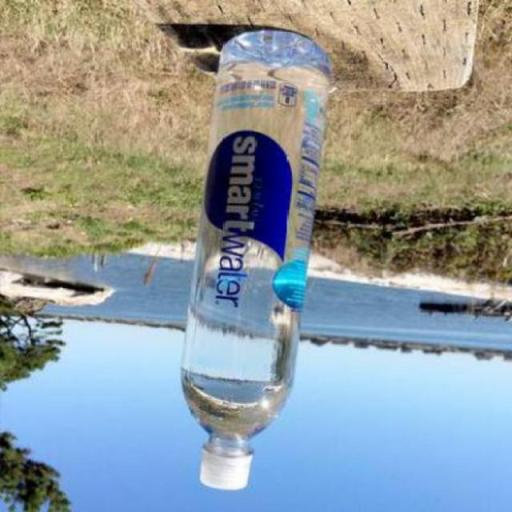Coca: (176, 22, 341, 500)
